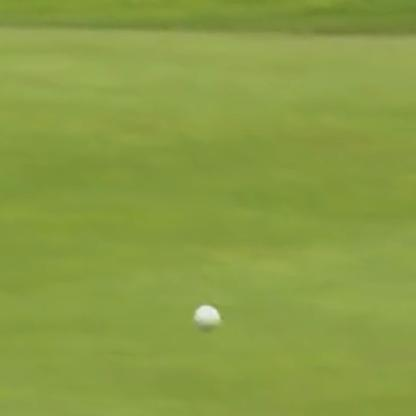golfball: (193, 302, 223, 330)
